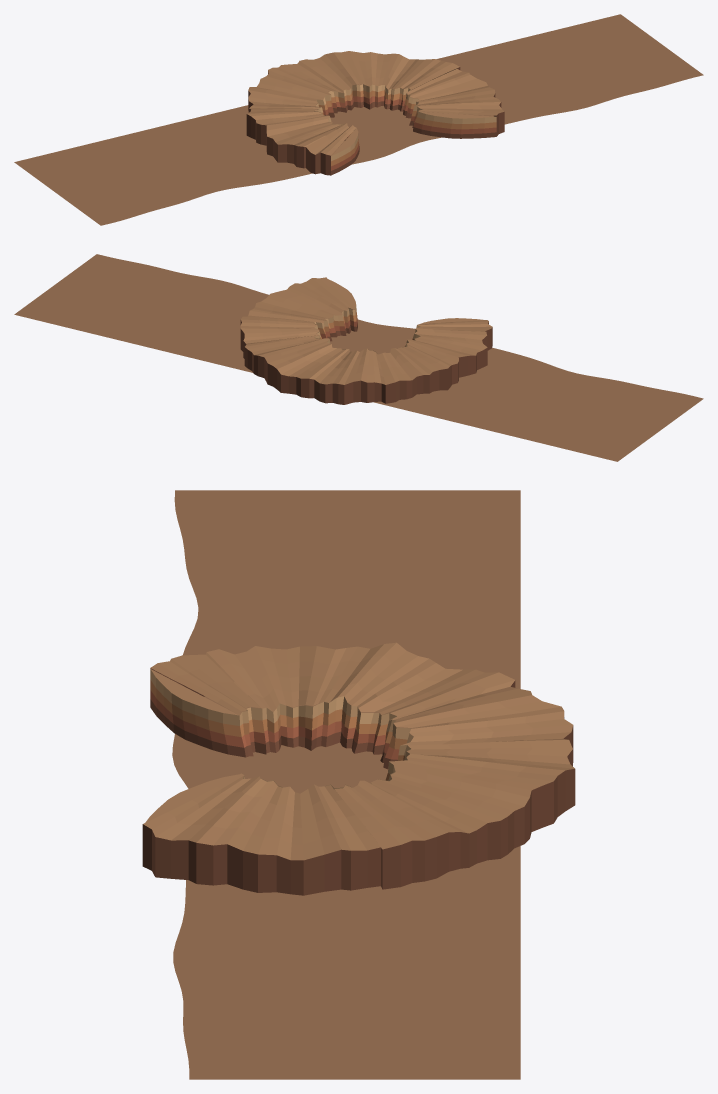
Rendered from desert_plateau_unity.fbx.
The picture shows the model from 3 angles, top to bottom: view 1: azimuth 30°, elevation 25°; view 2: azimuth 150°, elevation 25°; view 3: azimuth 270°, elevation 25°; orthographic projection. The views are drawn at different scales.
Visible parts, largest first — view 1: Basin_Ground, Plateau_Top, Plateau_OuterWall, Plateau_Strata_4, Plateau_Strata_3, Plateau_Strata_2, Plateau_Strata_1, Plateau_End_Right_Strata_4, Plateau_End_Right_Strata_3, Plateau_End_Right_Strata_2, Plateau_End_Right_Strata_1; view 2: Basin_Ground, Plateau_Top, Plateau_OuterWall, Plateau_Strata_4; view 3: Basin_Ground, Plateau_Top, Plateau_OuterWall, Plateau_Strata_4, Plateau_Strata_3, Plateau_Strata_2, Plateau_Strata_1, Plateau_End_Left_Strata_4, Plateau_End_Left_Strata_3, Plateau_End_Left_Strata_2, Plateau_End_Left_Strata_1.
Part boxes in pixels (x1=…): Basin_Ground: x1=14, y1=14, x2=703, y2=225; Plateau_Top: x1=247, y1=51, x2=504, y2=155; Plateau_OuterWall: x1=246, y1=67, x2=504, y2=175; Plateau_Strata_4: x1=314, y1=84, x2=422, y2=130; Plateau_Strata_3: x1=318, y1=90, x2=417, y2=135; Plateau_Strata_2: x1=323, y1=96, x2=416, y2=137; Plateau_Strata_1: x1=324, y1=101, x2=414, y2=140; Plateau_End_Right_Strata_4: x1=417, y1=111, x2=496, y2=123; Plateau_End_Right_Strata_3: x1=415, y1=117, x2=496, y2=129; Plateau_End_Right_Strata_2: x1=413, y1=122, x2=496, y2=134; Plateau_End_Right_Strata_1: x1=413, y1=127, x2=496, y2=138; Basin_Ground: x1=14, y1=254, x2=703, y2=461; Plateau_Top: x1=240, y1=277, x2=492, y2=384; Plateau_OuterWall: x1=240, y1=320, x2=492, y2=404; Plateau_Strata_4: x1=313, y1=308, x2=420, y2=354; Basin_Ground: x1=172, y1=490, x2=520, y2=1079; Plateau_Top: x1=143, y1=642, x2=574, y2=860; Plateau_OuterWall: x1=142, y1=668, x2=575, y2=895; Plateau_Strata_4: x1=239, y1=696, x2=413, y2=789; Plateau_Strata_3: x1=240, y1=709, x2=407, y2=780; Plateau_Strata_2: x1=242, y1=721, x2=399, y2=759; Plateau_Strata_1: x1=244, y1=731, x2=397, y2=769; Plateau_End_Left_Strata_4: x1=150, y1=669, x2=239, y2=725; Plateau_End_Left_Strata_3: x1=150, y1=680, x2=241, y2=736; Plateau_End_Left_Strata_2: x1=150, y1=690, x2=244, y2=747; Plateau_End_Left_Strata_1: x1=150, y1=699, x2=245, y2=757.
Bounding box in the file's own units: 300 × 10.42 × 93.06.
